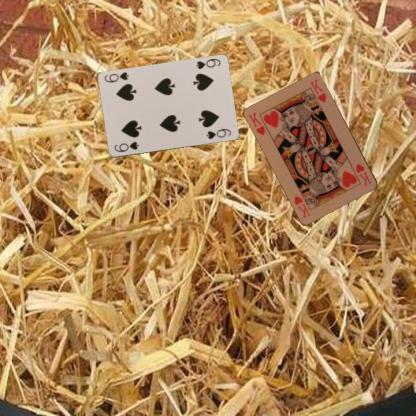6s: (111, 139, 140, 154), (193, 56, 221, 71)
Kh: (353, 160, 373, 188), (246, 109, 266, 137)
